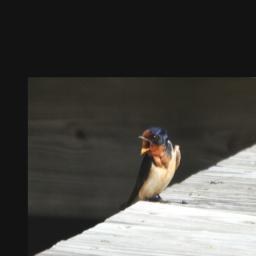Swallow: (130, 124, 182, 203)
